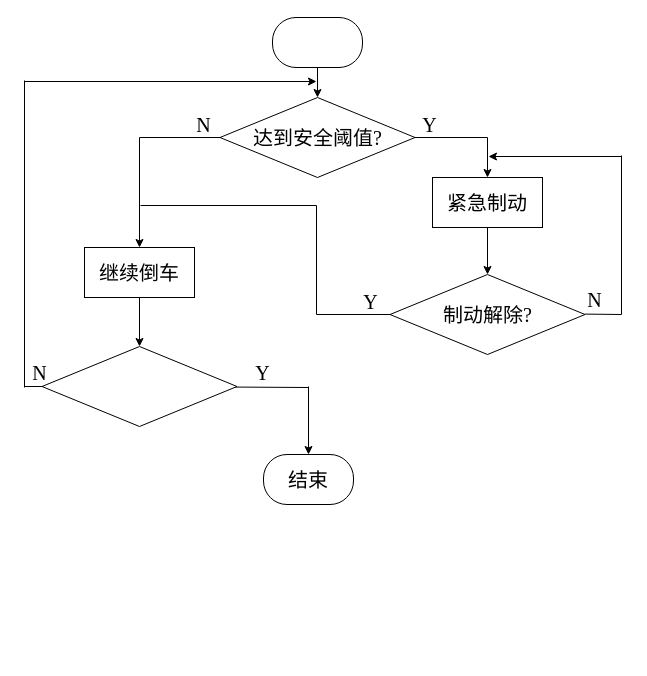
Some shapes in this 647 by 676 pixel diagram are drawn without their labels. Here are the shapes that lost their labels. From the top down, the centre of each, then its label:
At (317,42): "开始".
At (139,386): "退出倒车模式 ?".
